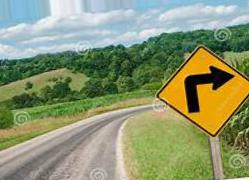right: (156, 45, 249, 137)
